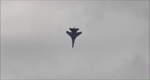maybay_muctieu: (66, 25, 82, 49)
